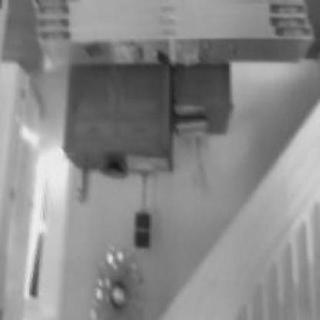other: (127, 206, 153, 254), (32, 232, 42, 306)
